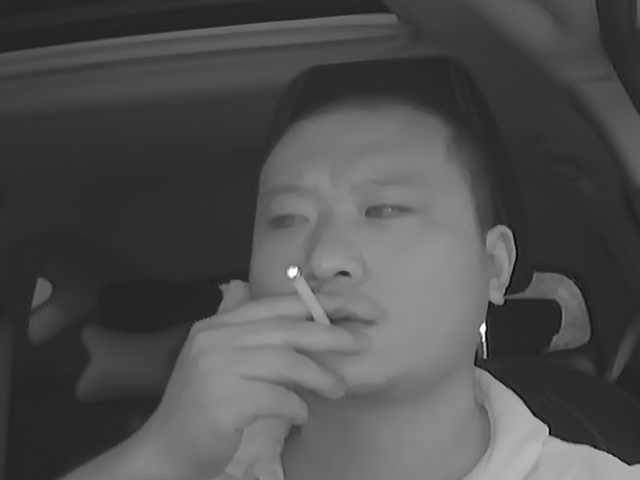hand: (205, 281, 354, 432)
